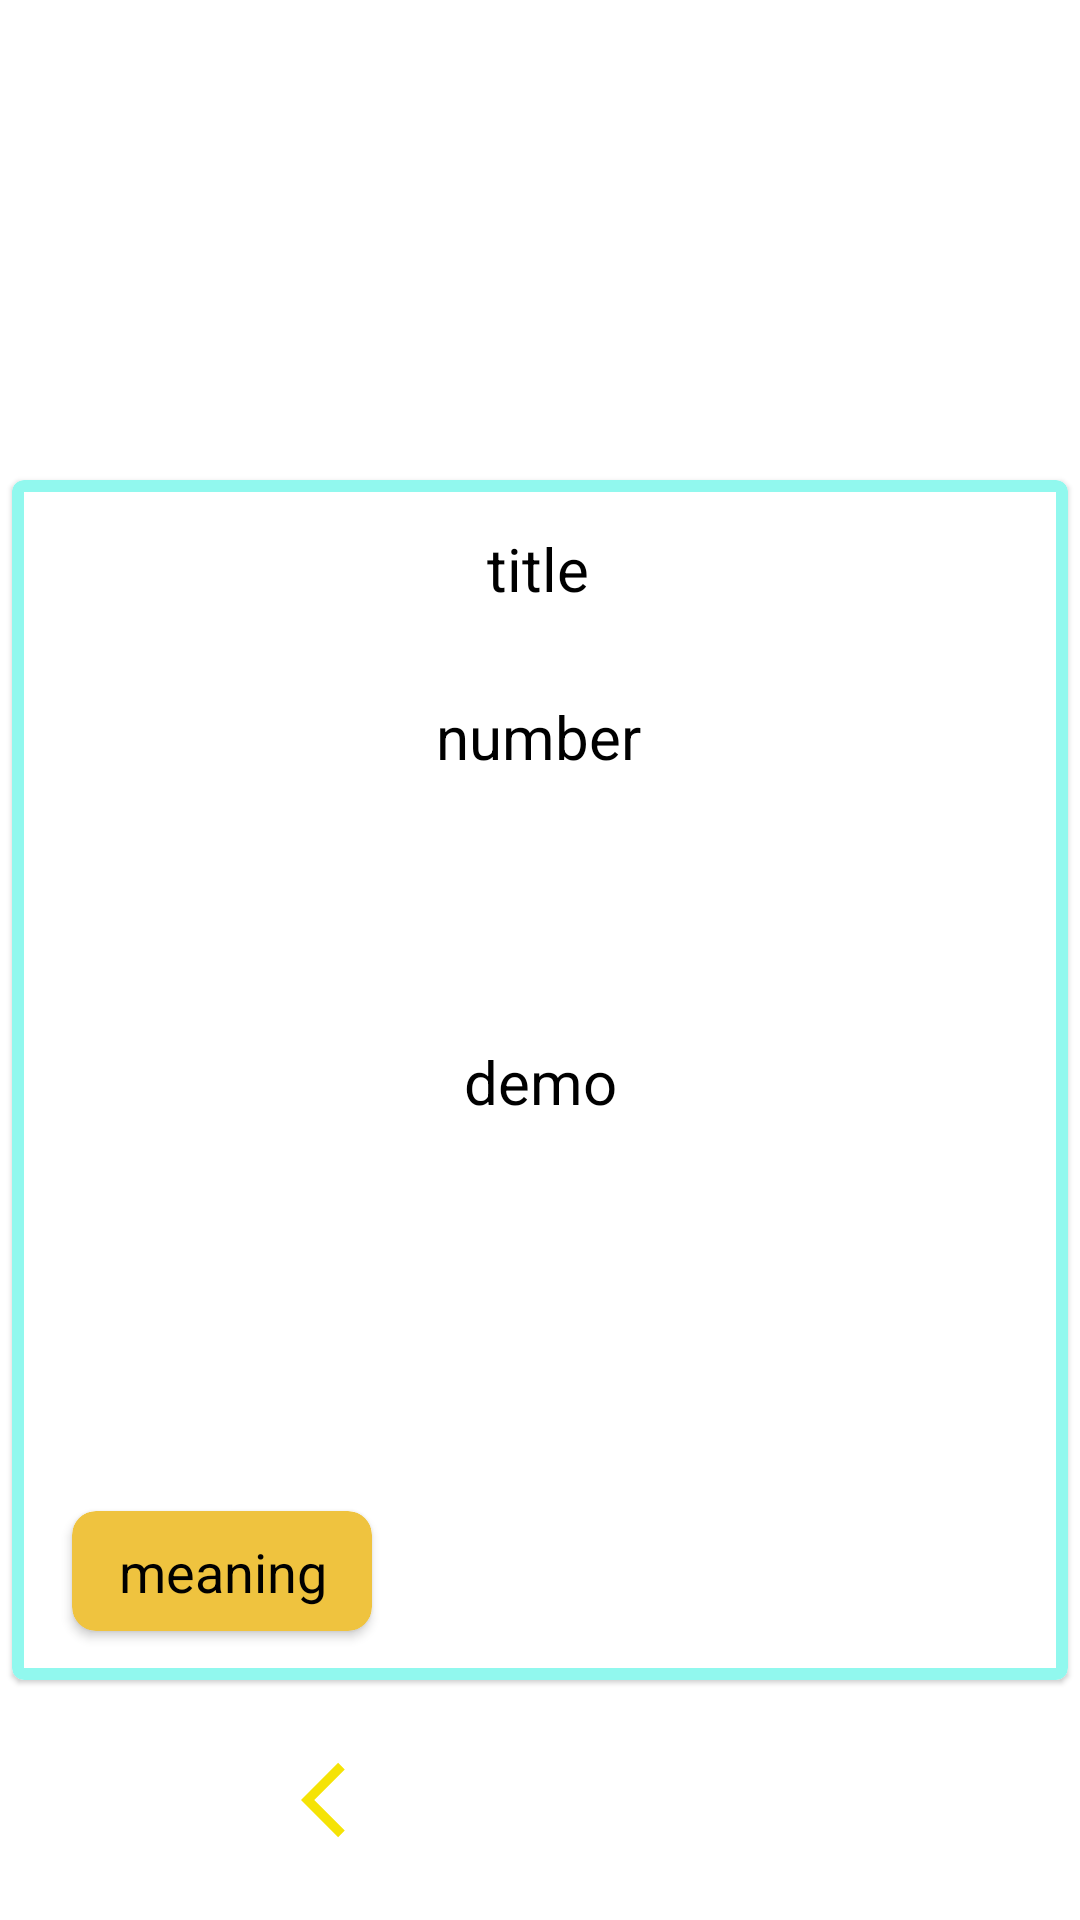

Icons on this 1080×1920 Android screen, each with its box as bbox(x1, y1, x2, y2):
vocab arrow back: bbox(301, 1763, 345, 1837)
